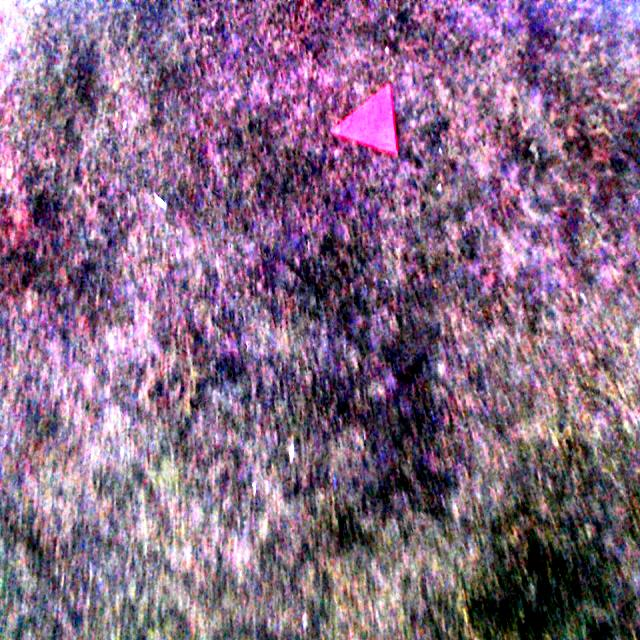red_triangle: (331, 81, 398, 157)
